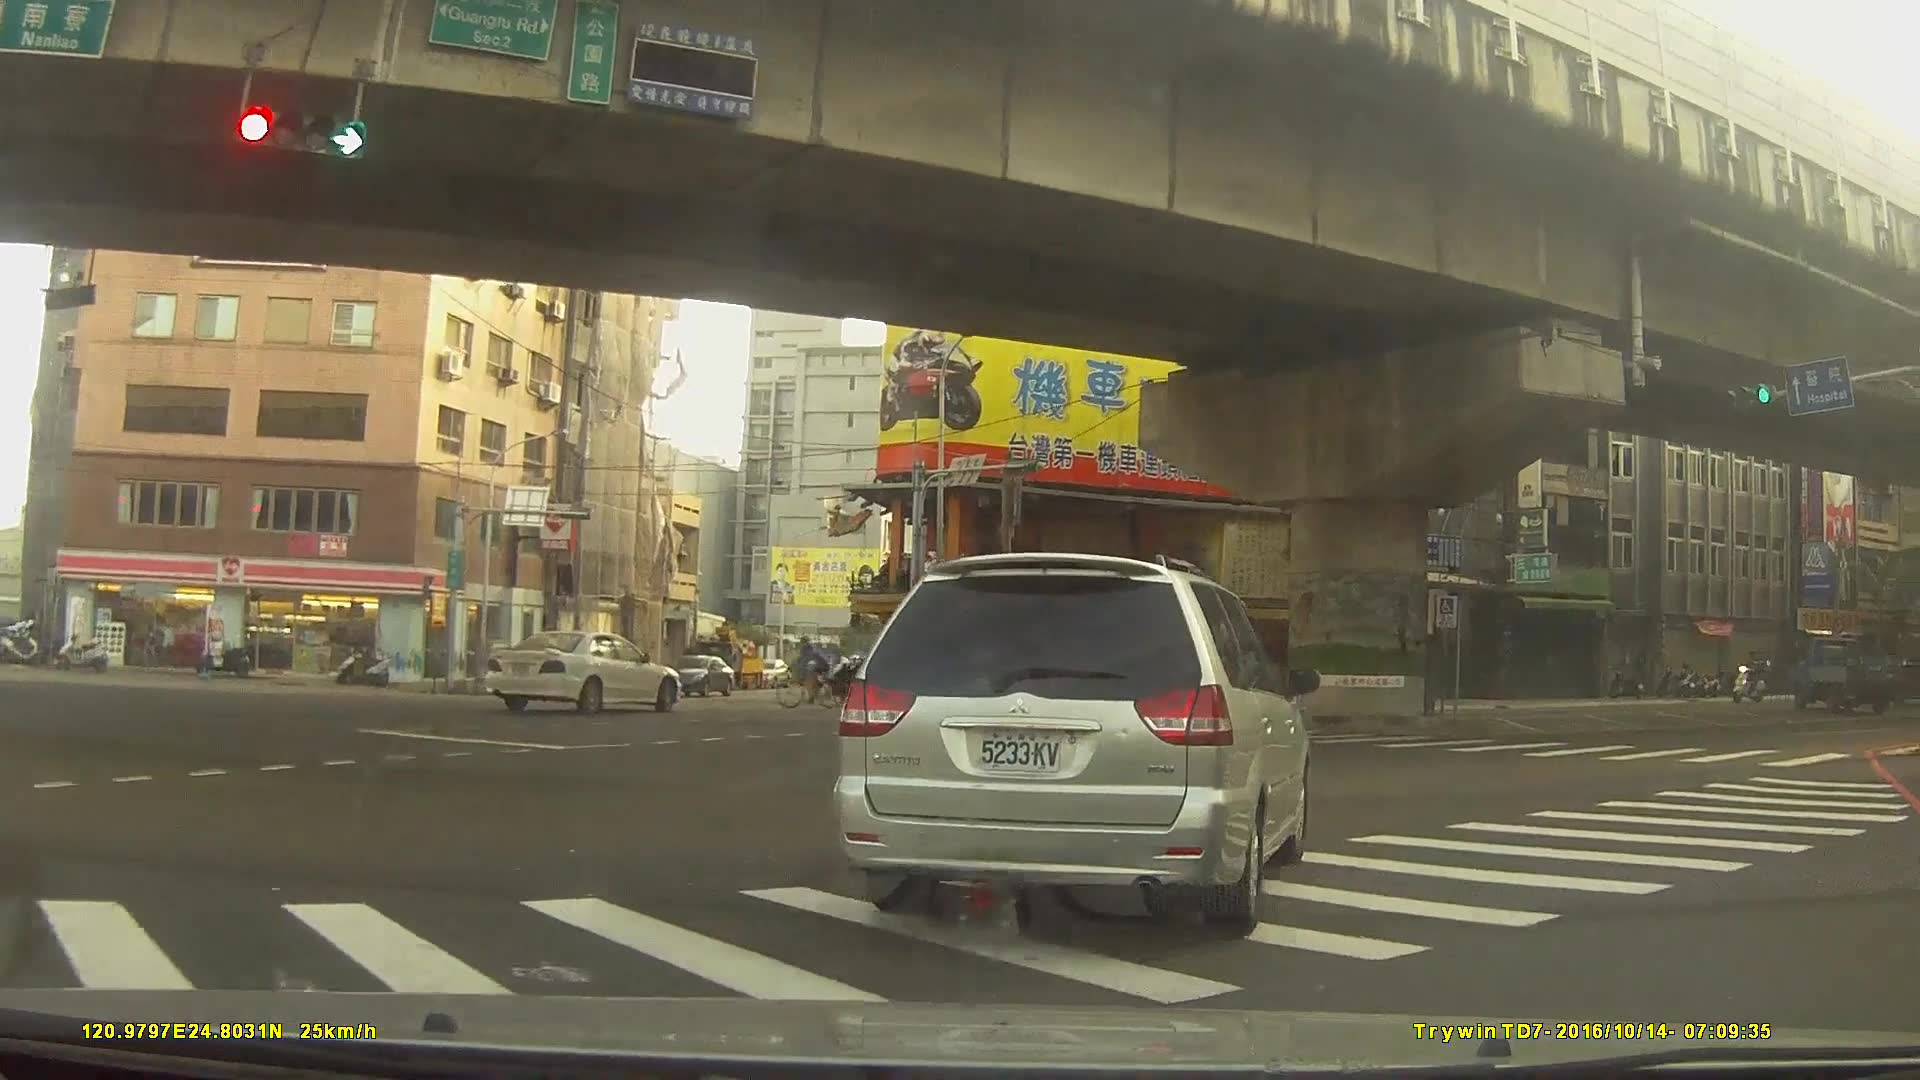rider: (776, 631, 852, 709), (1731, 648, 1769, 700)
vehicle: (830, 548, 1310, 936), (484, 626, 682, 715), (1789, 636, 1905, 717), (662, 651, 736, 693), (751, 658, 791, 689)
